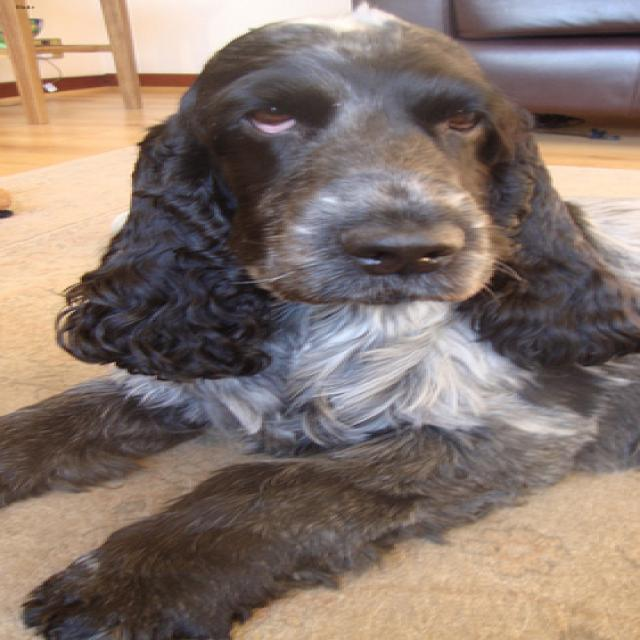dog-english_cocker_spaniel: (2, 1, 635, 637)
